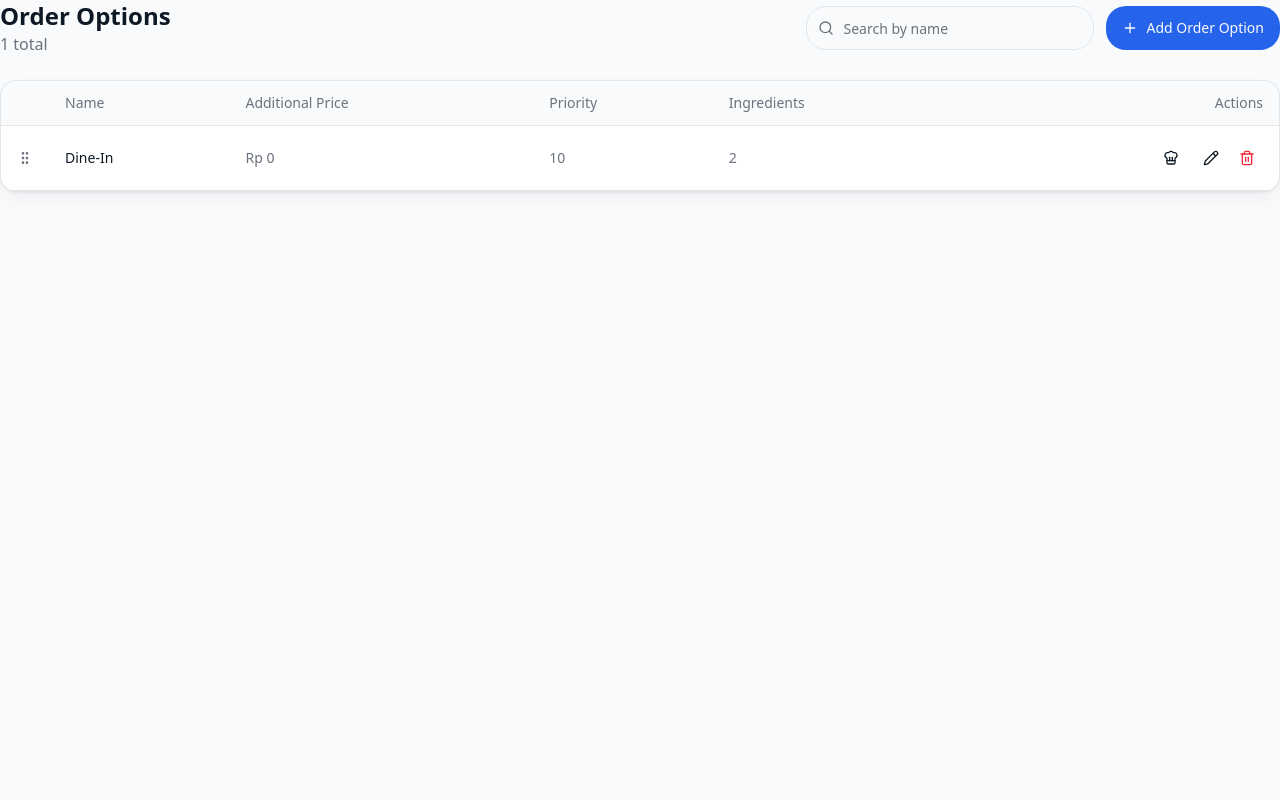
Test: AdminOrderOptionsPage › rejects negative additional price in the dialog
Expected: the text "Dine-In" is shown, x1=49 y1=126 x2=230 y2=190
Click the button "Add Order Option" at x=1193, y=28, box x1=1106 y1=6 x2=1279 y2=50
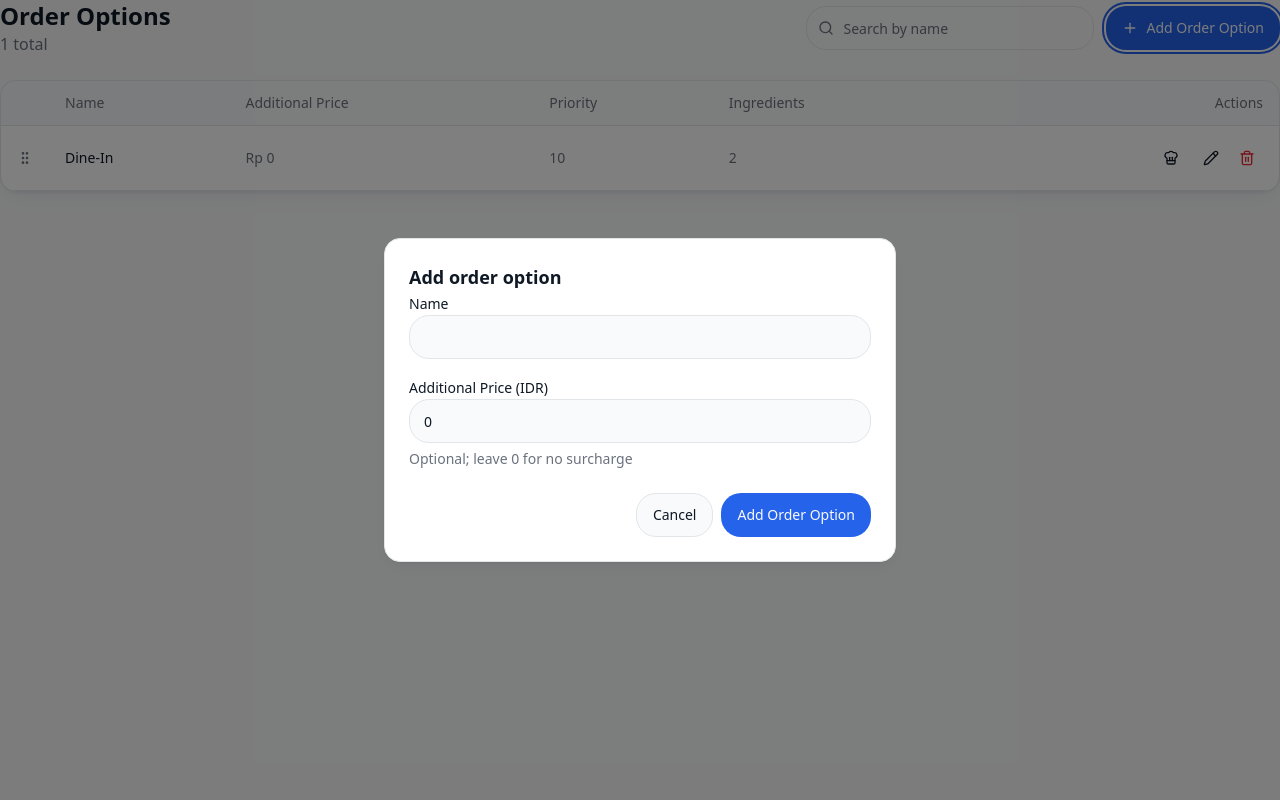
Type "Box" into the field labelled "Name" at x=640, y=337, box x1=409 y1=315 x2=871 y2=359
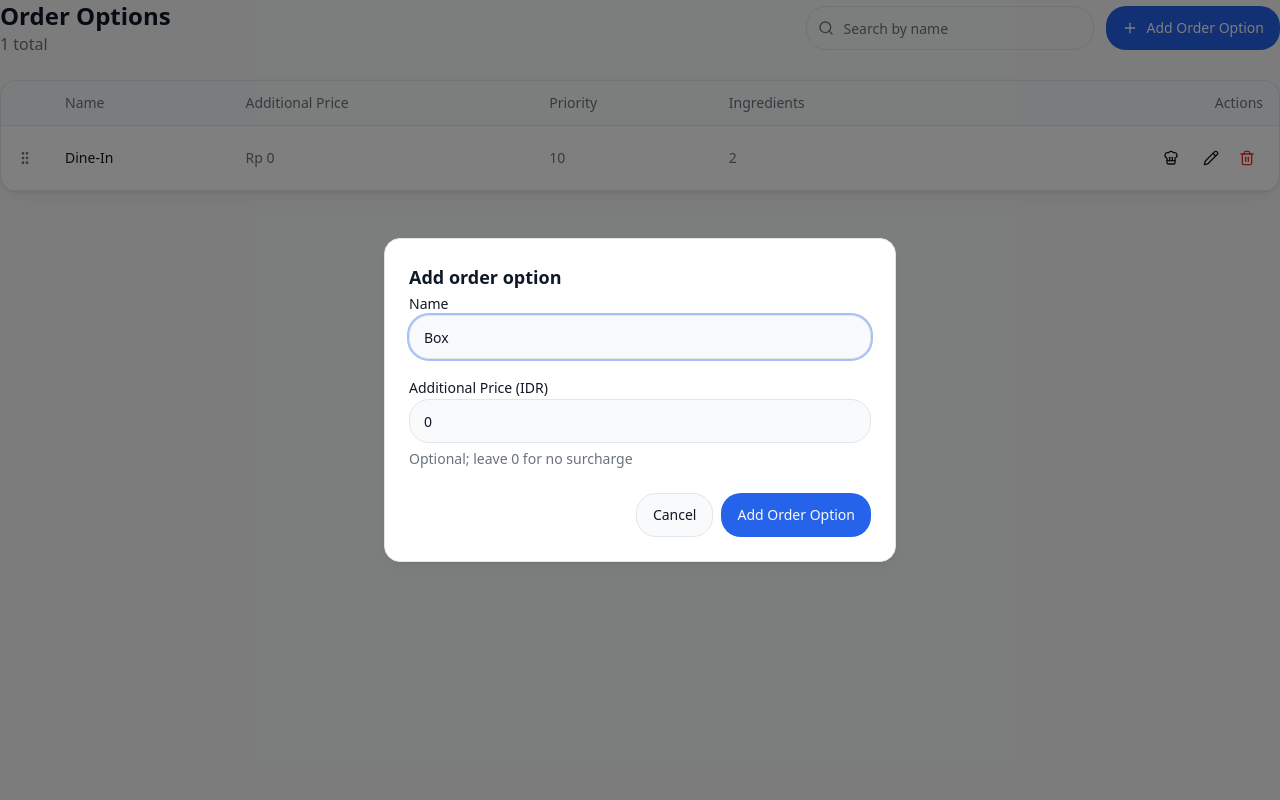
Replace the text in the number field labelled "Additional Price (IDR)" with "-100" at x=640, y=421, box x1=409 y1=399 x2=871 y2=443
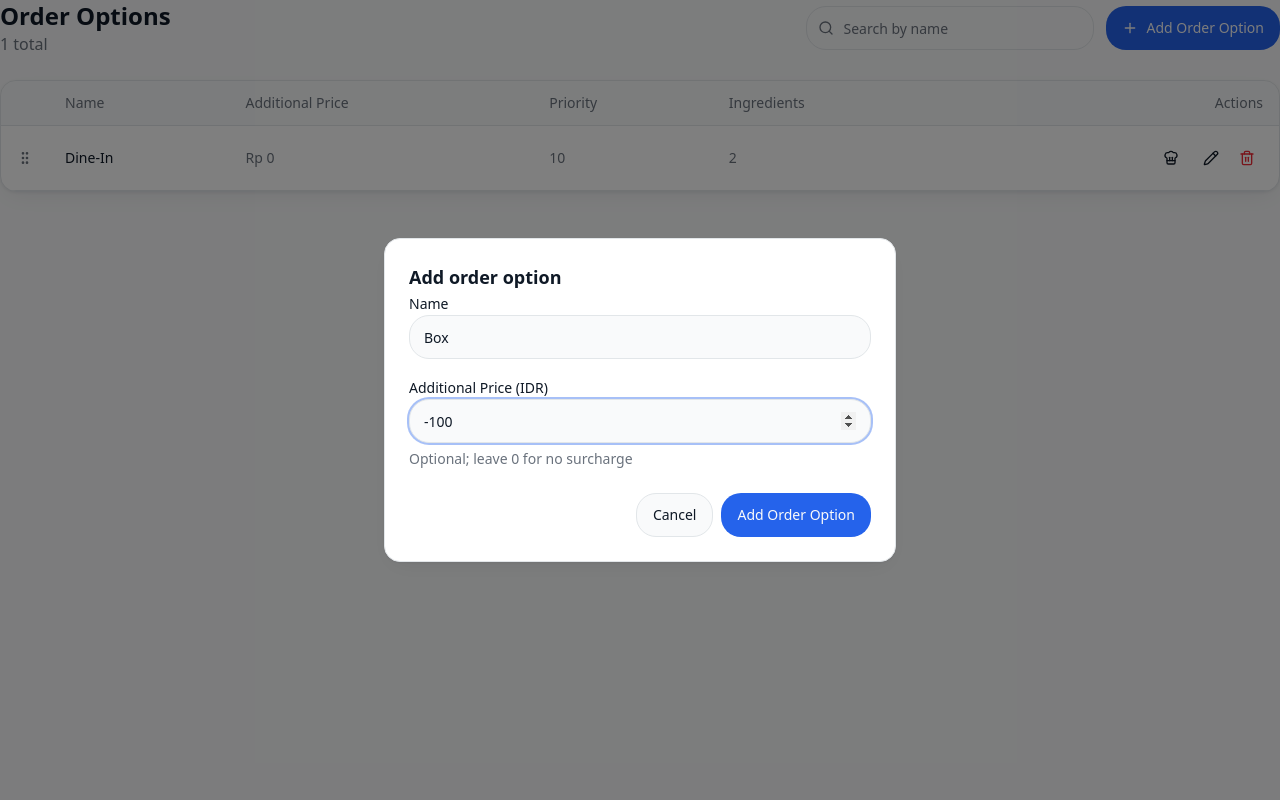
Click the button "Add Order Option" at x=796, y=515, box x1=722 y1=493 x2=871 y2=537
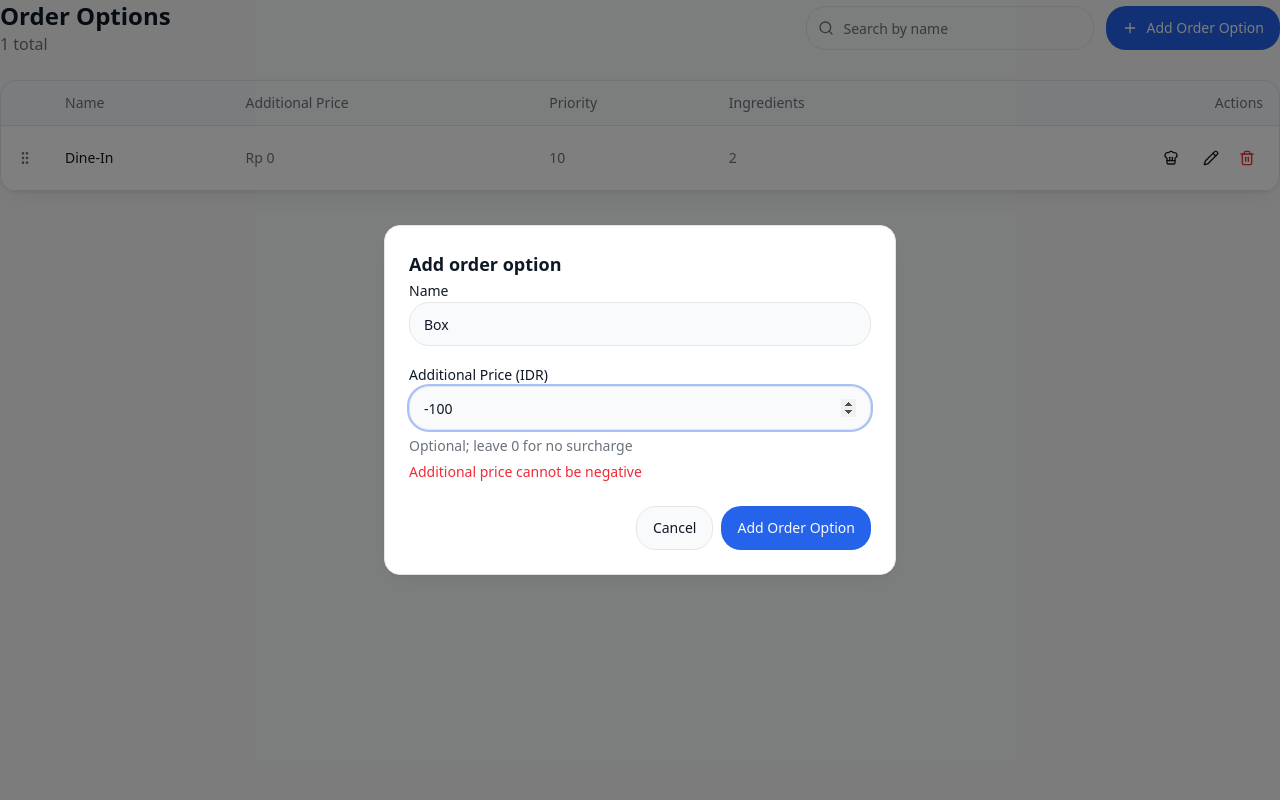
Expected: the text "Additional price cannot be negative" is shown, x1=409 y1=462 x2=642 y2=481
